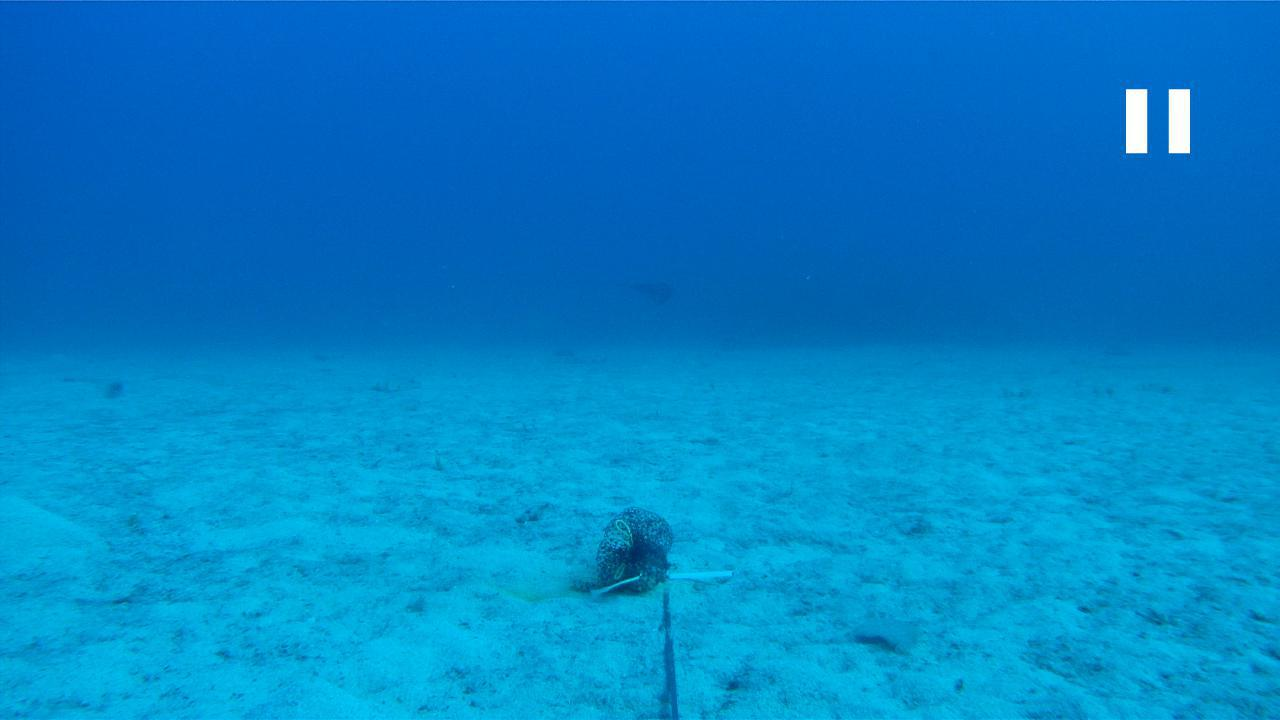bothus: (849, 609, 922, 660)
